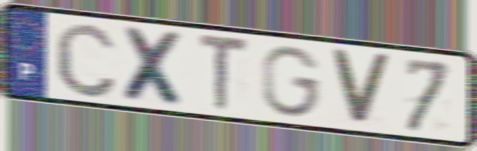7: (404, 57, 453, 134)
C: (52, 20, 120, 101)
G: (259, 44, 325, 120)
T: (197, 31, 251, 114)
V: (326, 46, 394, 130)
X: (119, 23, 190, 110)
